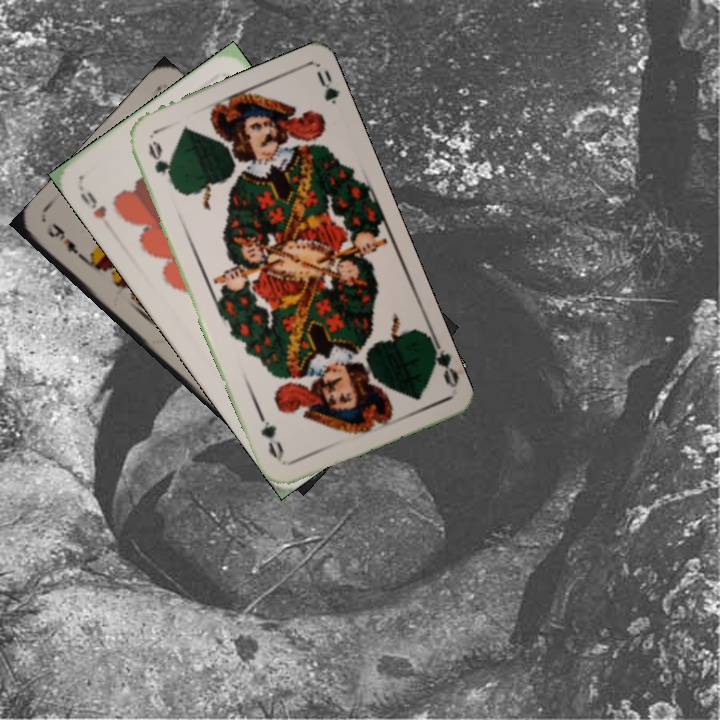E9: (42, 218, 90, 265)
GO: (426, 333, 461, 390), (143, 137, 178, 191)
H9: (76, 187, 109, 222)
